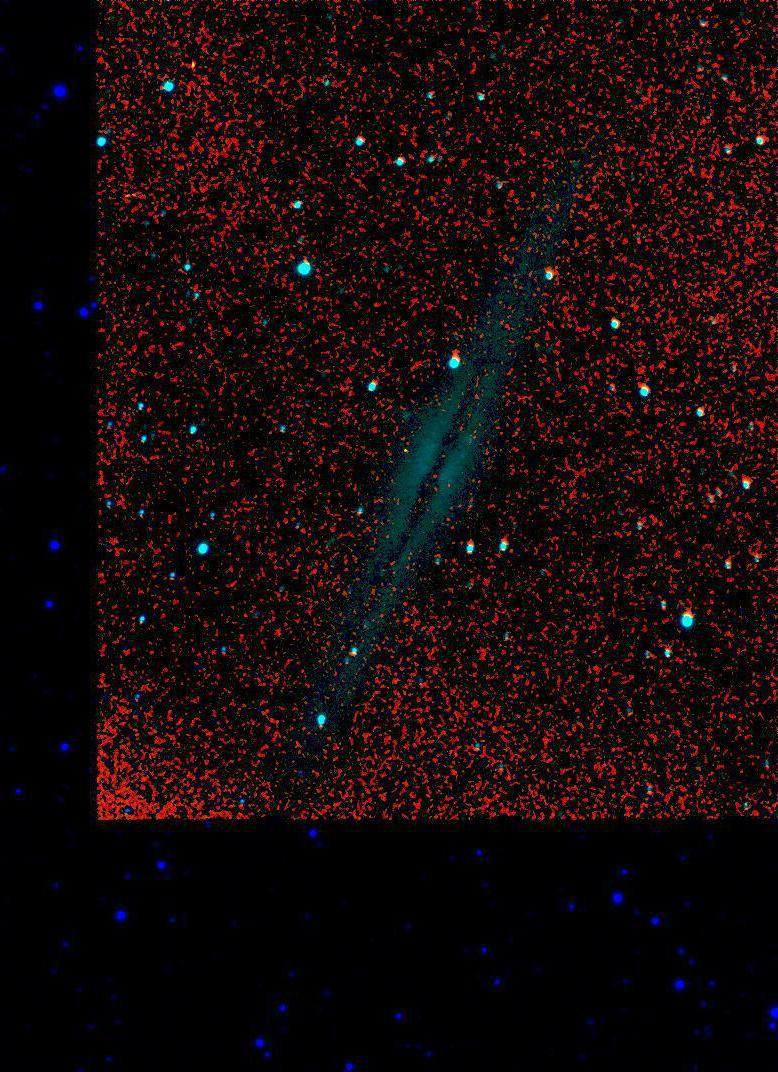star: (392, 431, 422, 461)
